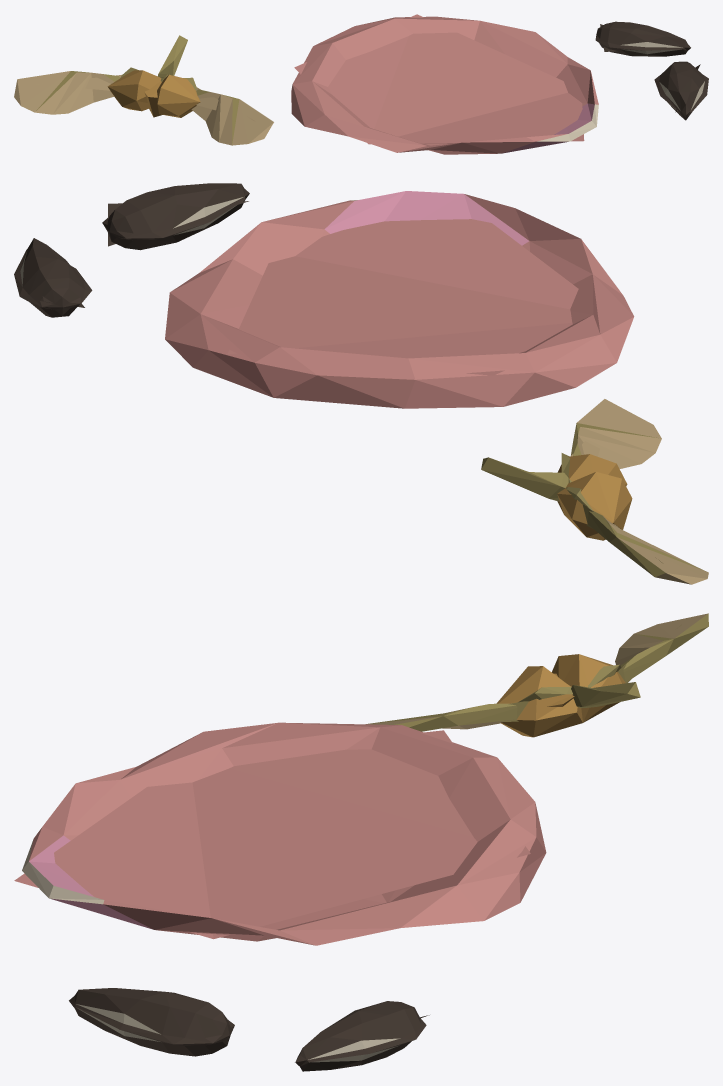
File: pf_litter_b.glb
3 renders of one model, top to bottom at view 1: azimuth 30°, elevation 25°; view 2: azimuth 150°, elevation 25°; view 3: azimuth 270°, elevation 25°, orthographic. The views are drawn at different scales.
Parts seen in each view (by area): view 1: body, body__far; view 2: body, body__far; view 3: body, body__far.
Boxes of the visible parts, x1=… form: body: x1=14, y1=16, x2=708, y2=154; body__far: x1=35, y1=14, x2=700, y2=144; body: x1=14, y1=183, x2=708, y2=584; body__far: x1=42, y1=201, x2=661, y2=562; body: x1=22, y1=613, x2=708, y2=1071; body__far: x1=14, y1=625, x2=681, y2=1018.
Bounding box in the file's own units: 1.63 × 0.1559 × 1.08.
